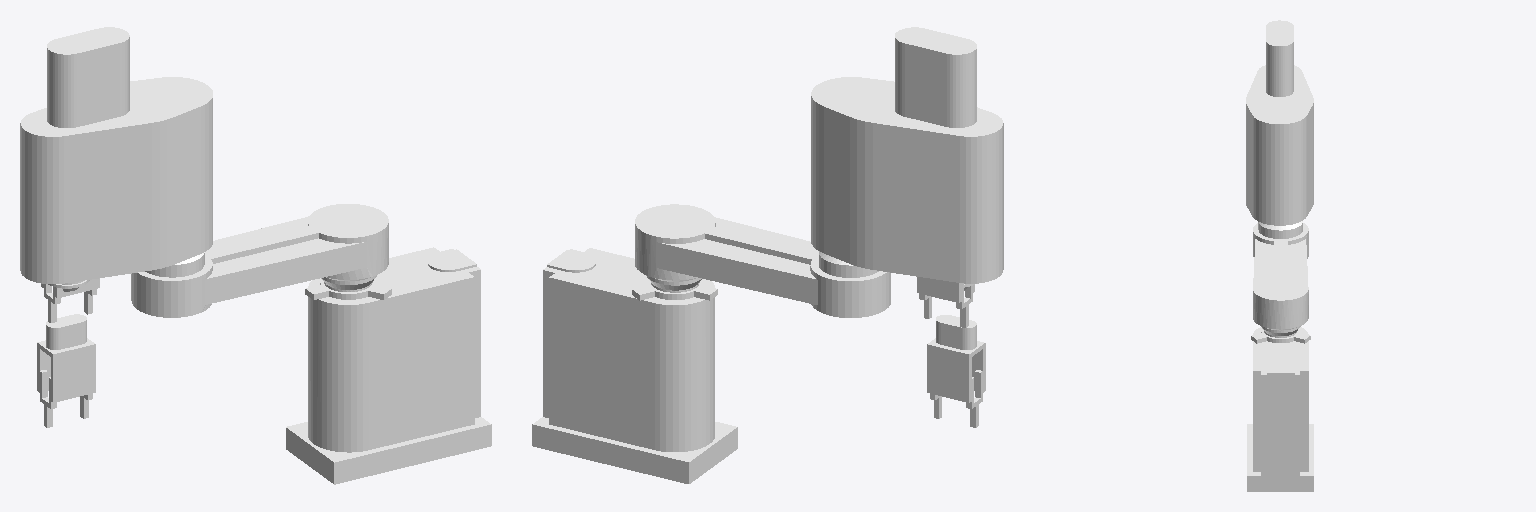
The robot description file, URDF, robot "scara":
<?xml version="1.0"?>

<robot name="scara">
	<link name="base_link">
		<visual>
			<origin xyz="-0.055 -0.06 0"/>
			<geometry>
				<mesh filename="package://scara_robot/meshes/base.STL" scale="0.001 0.001 0.001"/>
			</geometry>
			<material name="White">
				<color rgba="1.0 1.0 1.0 1.0"/>
			</material>
		</visual>
		<collision>
			<origin xyz="0.0565 0.0 0.119" rpy="0 0 0"/>
			<geometry>
				<box size="0.223 0.12 0.238"/>
			</geometry>
		</collision>
	</link>
	
	<joint name="base_to_link1" type="revolute">
		<parent link="base_link"/>
		<child link="link1"/>
		<axis xyz="0 0 1"/>
		<limit effort="1000.0" lower="-2.094395" upper="2.094395" velocity="0.02"/>
		<origin xyz="0 0 0.238"/>
	</joint>
	
	<link name="link1">
		<visual>
			<origin xyz="-0.3 -0.05 -0.2"/>
			<geometry>
				<mesh filename="package://scara_robot/meshes/link1.STL" scale="0.001 0.001 0.001"/>
			</geometry>
			<material name="White">
				<color rgba="1.0 1.0 1.0 1.0"/>
			</material>
		</visual>
		<collision>
			<origin xyz="-0.125 0 0.058"/>
			<geometry>
				<box size="0.35 0.1 0.05"/>
			</geometry>
		</collision>
		<inertial>
			<mass value="2"/>
			<inertia ixx="0" ixy="0" ixz="0" iyy="0" iyz="0" izz="0"/>
		</inertial>
	</link>
	
	<joint name="link1_to_link2" type="revolute">
		<parent link="link1"/>
		<child link="link2"/>
		<limit effort="1000.0" lower="-2.268928" upper="2.268928" velocity="0.02"/>
		<axis xyz="0 0 1"/>
		<origin xyz="-0.25 0 0.088"/>
	</joint>
	
	<link name="link2">
		<visual>
			<origin xyz="-0.21 -0.0629248 0"/>
			<geometry>
				<mesh filename="package://scara_robot/meshes/link2.STL" scale="0.001 0.001 0.001"/>
			</geometry>
			<material name="White"/>
		</visual>
		<collision>
			<origin xyz="-0.085 0 0.15"/>
			<geometry>
				<box size="0.25 0.15 0.3"/>
			</geometry>
		</collision>
		<inertial>
			<mass value="3"/>
			<inertia ixx="0" ixy="0" ixz="0" iyy="0" iyz="0" izz="0"/>
		</inertial>
	</link>
	
	<joint name="link2_to_link3" type="prismatic">
		<parent link="link2"/>
		<child link="link3"/>
		<limit effort="1000.0" lower="-0.15" upper="0.0" velocity="0.0002"/>
		<axis xyz="0 0 1"/>
		<origin xyz="-0.15 0 0.0"/>
	</joint>
	
	<link name="link3">
		<visual>
			<origin xyz="-0.02 -0.0125 -0.047728"/>
			<geometry>
				<mesh filename="package://scara_robot/meshes/link3.STL" scale="0.001 0.001 0.001"/>
			</geometry>
			<material name="White">
				<color rgba="1.0 1.0 1.0 1.0"/>
			</material>
		</visual>
		<collision>
		<origin xyz="0 0 0.061772"/>
			<geometry>
				<box size="0.04 0.025 0.219"/>
			</geometry>
		</collision>
		<inertial>
			<mass value="0.1"/>
			<inertia ixx="0" ixy="0" ixz="0" iyy="0" iyz="0" izz="0"/>
		</inertial>
	</link>
	
	<joint name="link3_to_link4" type="continuous">
		<origin xyz="0 0 -0.047728"/>
		<parent link="link3"/>
		<child link="link4"/>
		<axis xyz="0 0 1"/>
	</joint>
	
	<link name="link4">
		<visual>
			<origin xyz="-0.03 -0.02 -0.13646"/>
			<geometry>
				<mesh filename="package://scara_robot/meshes/link4.STL" scale="0.001 0.001 0.001"/>
			</geometry>
			<material name="White"/>
		</visual>
		<collision>
			<origin xyz="0 0 -0.068228"/>
			<geometry>
				<box size="0.06 0.04 0.136456"/>
			</geometry>
		</collision>
		<inertial>
			<mass value="0.2"/>
			<inertia ixx="0" ixy="0" ixz="0" iyy="0" iyz="0" izz="0"/>
		</inertial>
	</link>
</robot>

--- What the picture shows (computed from the rendered views, not written in the file) ---
The picture shows the robot from 3 angles, left to right: view 1: azimuth 30°, elevation 25°; view 2: azimuth 150°, elevation 25°; view 3: azimuth 270°, elevation 25°; orthographic projection.
Model scara with 5 links and 4 joints (2 revolute, 1 continuous, 1 prismatic), rooted at base_link, posed all joints at 0.
Visible links, largest first — view 1: link2, base_link, link1, link4, link3; view 2: link2, base_link, link1, link4, link3; view 3: link2, base_link, link1.
Link boxes in pixels (left/top/right/bottom): link2: left=20, top=27, right=212, bottom=291; base_link: left=286, top=247, right=491, bottom=484; link1: left=131, top=204, right=388, bottom=317; link4: left=37, top=314, right=95, bottom=427; link3: left=41, top=278, right=99, bottom=322; link2: left=811, top=27, right=1003, bottom=289; base_link: left=532, top=248, right=737, bottom=483; link1: left=635, top=204, right=890, bottom=317; link4: left=927, top=315, right=985, bottom=427; link3: left=917, top=277, right=974, bottom=327; link2: left=1246, top=20, right=1313, bottom=225; base_link: left=1247, top=327, right=1313, bottom=491; link1: left=1253, top=221, right=1308, bottom=337.
Bounding box of the posed robot: 0.6286 × 0.1229 × 0.652 m (x, y, z).
Meshes: 5 distinct files referenced, 5 mesh visuals loaded (5 binary STL).